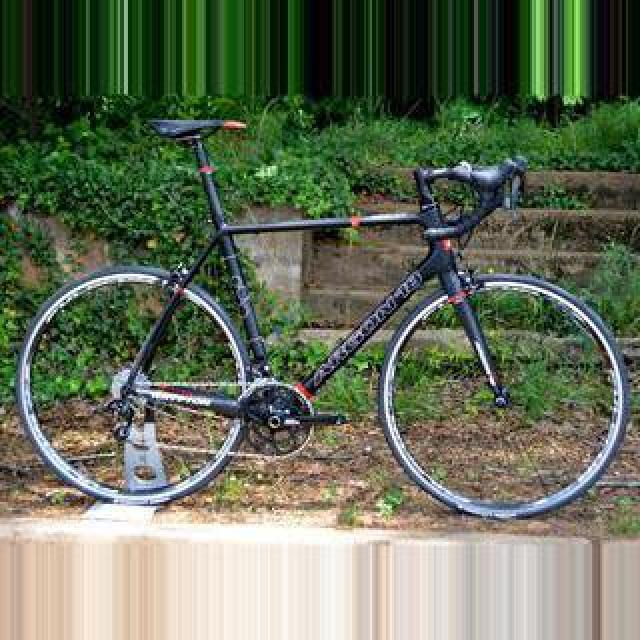Person: (18, 105, 620, 521)
